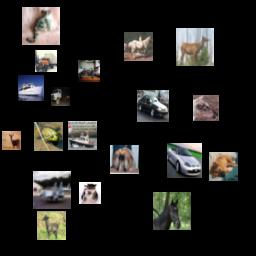airplane: (33, 171, 71, 209)
automobile: (167, 143, 202, 178), (137, 90, 169, 122)
cat: (22, 7, 60, 45), (78, 60, 100, 82), (79, 182, 101, 204)
deer: (176, 28, 214, 66), (37, 211, 66, 240), (193, 95, 219, 121), (2, 131, 21, 150)
dog: (110, 145, 139, 174), (209, 152, 238, 181)
frog: (34, 122, 63, 151)
ship: (68, 121, 97, 150), (18, 75, 44, 101)
truck: (35, 50, 57, 72), (51, 87, 70, 106)
